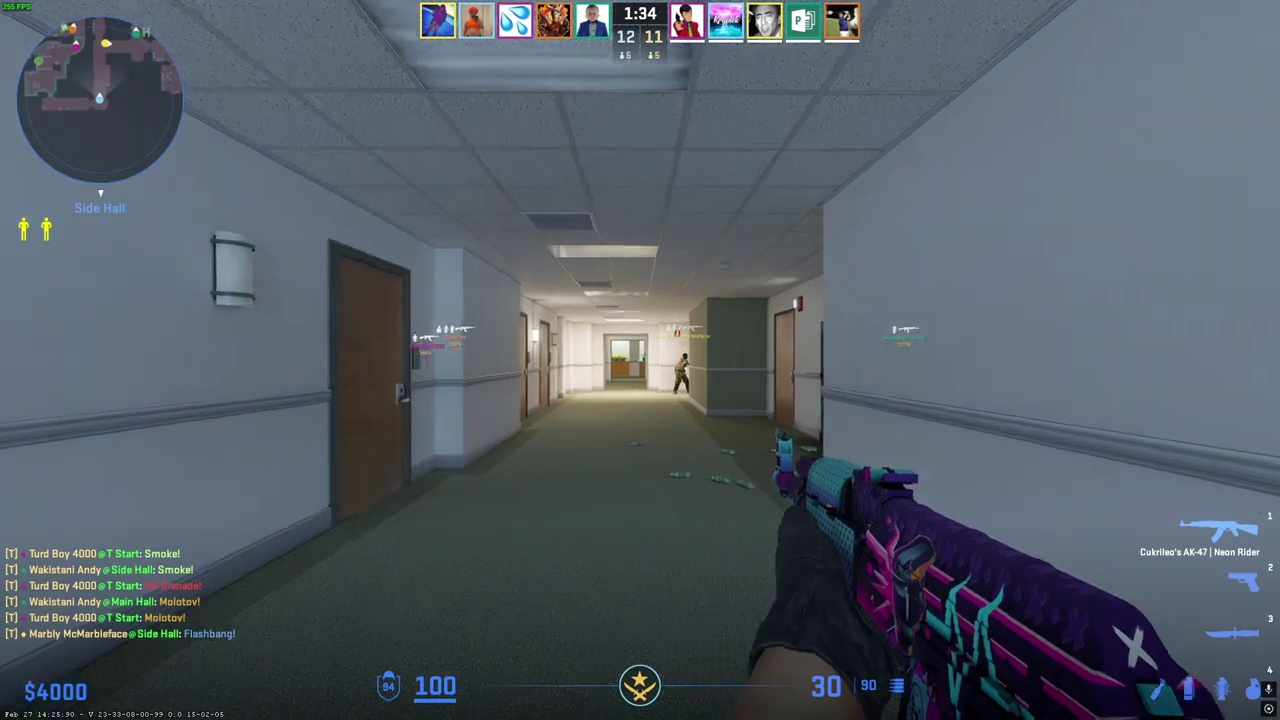Terrorist: (674, 353, 691, 394)
